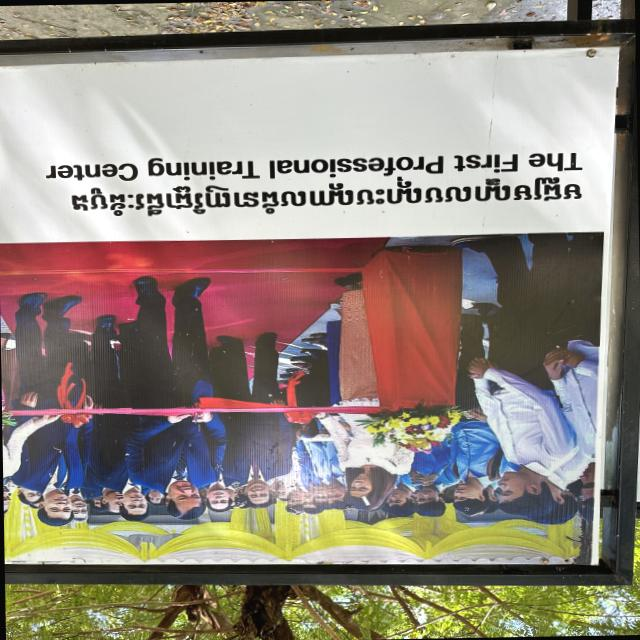Yolov11_80vkh: (62, 175, 595, 222)
